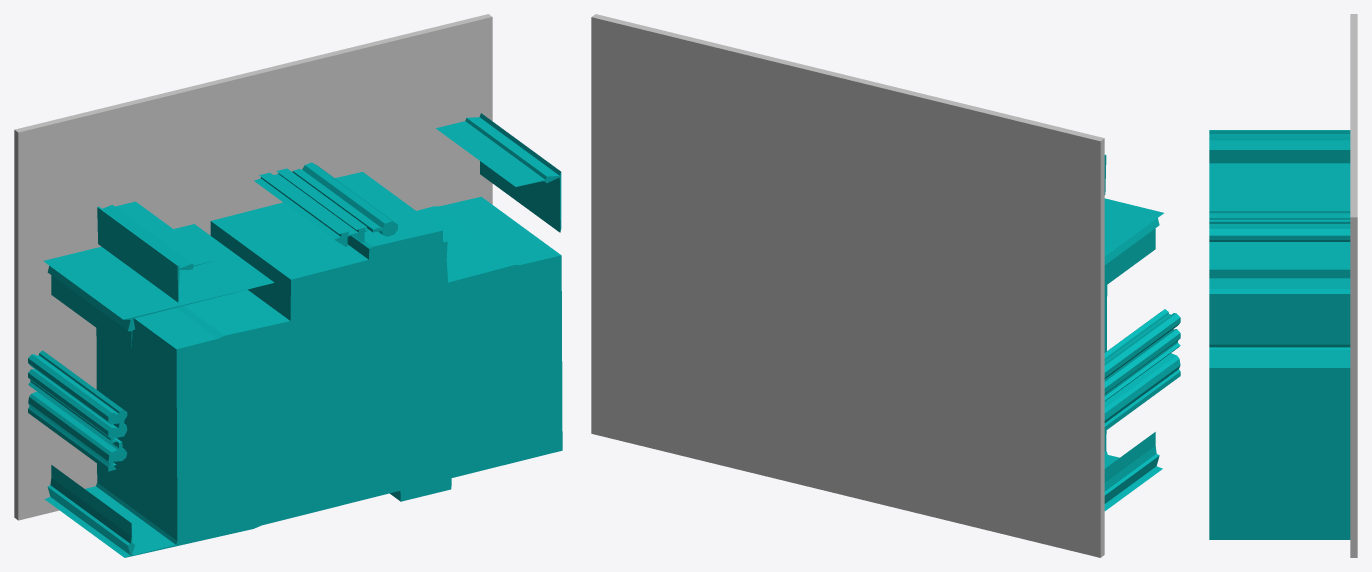
The picture shows the model from 3 angles, left to right: view 1: azimuth 30°, elevation 25°; view 2: azimuth 150°, elevation 25°; view 3: azimuth 270°, elevation 25°; orthographic projection. The views are drawn at different scales.
Parts seen in each view (by area): view 1: world; view 2: world; view 3: world.
Boxes of the visible parts, x1,y1,x2,y2 form: world: [14, 14, 562, 557]; world: [591, 14, 1180, 557]; world: [1209, 14, 1357, 557].
Size of the model in its own units: 10.23 by 8 by 3.15.
